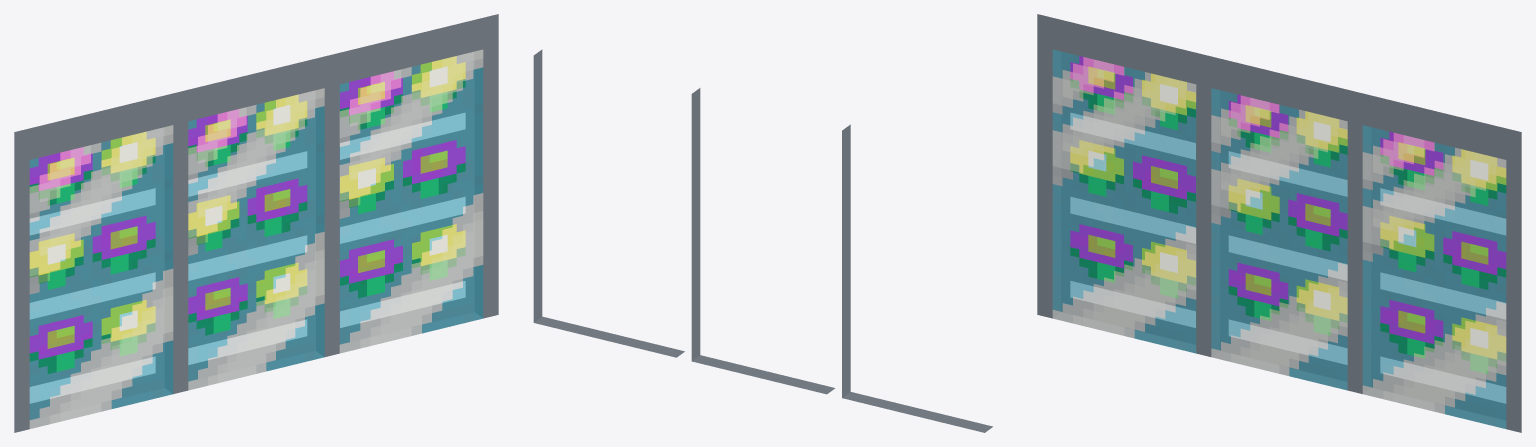
The picture shows the model from 3 angles, left to right: view 1: azimuth 30°, elevation 25°; view 2: azimuth 150°, elevation 25°; view 3: azimuth 330°, elevation 25°; orthographic projection.
Bounding box in the file's own units: 4 × 2.38 × 0.125.
Materials: 3 (3 with a texture image).
